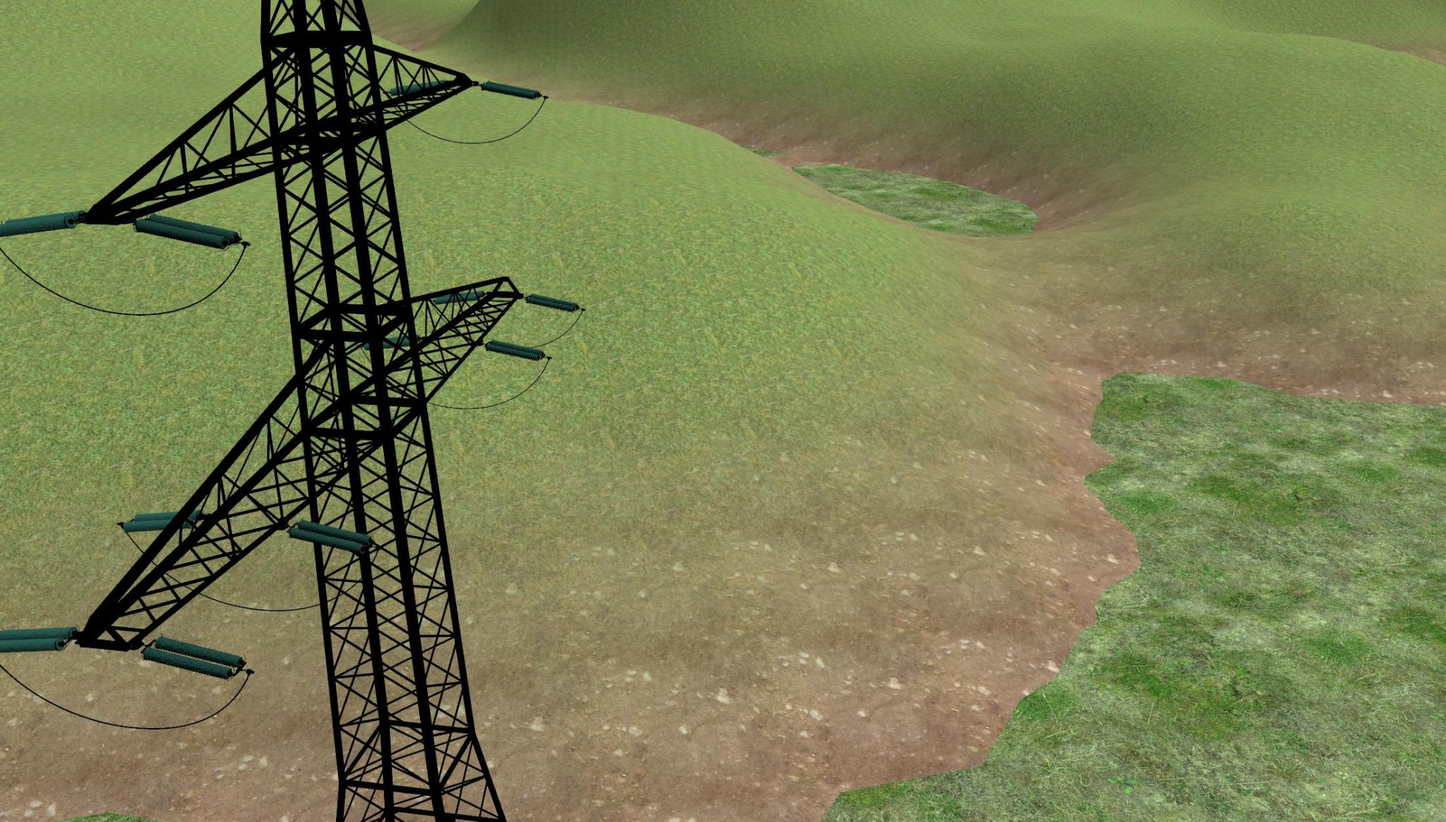tower: (100, 0, 533, 822)
